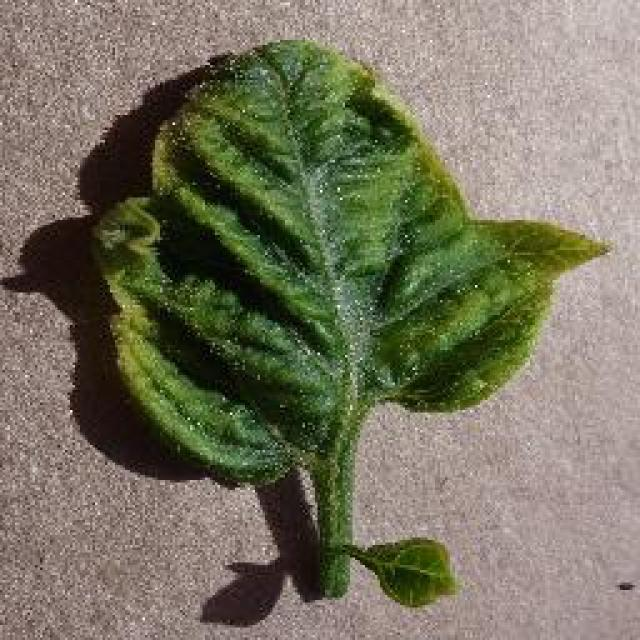Tomato yellow virus leaf: (91, 36, 614, 492)
